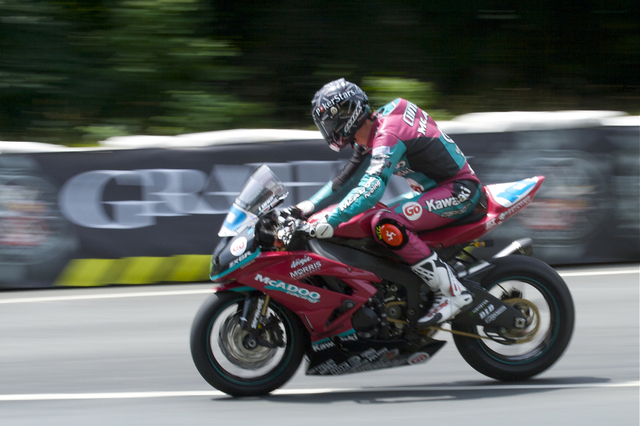helmet: (304, 76, 376, 142)
